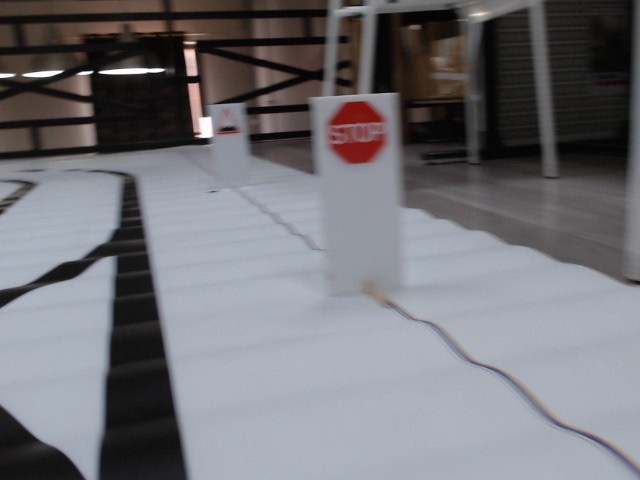Nerov: (213, 109, 245, 137)
Stop: (331, 101, 387, 165)
